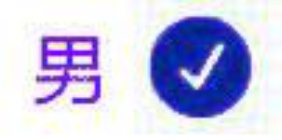CheckBox: (1, 1, 281, 139)
